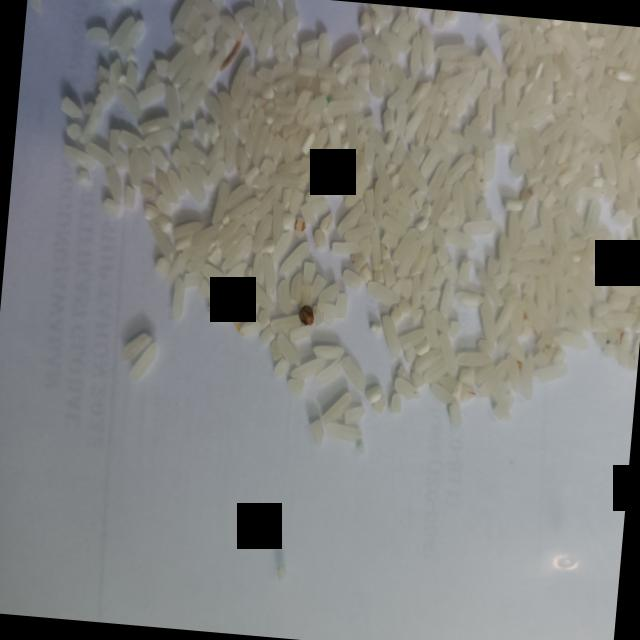Kerikil: (296, 301, 315, 331)
